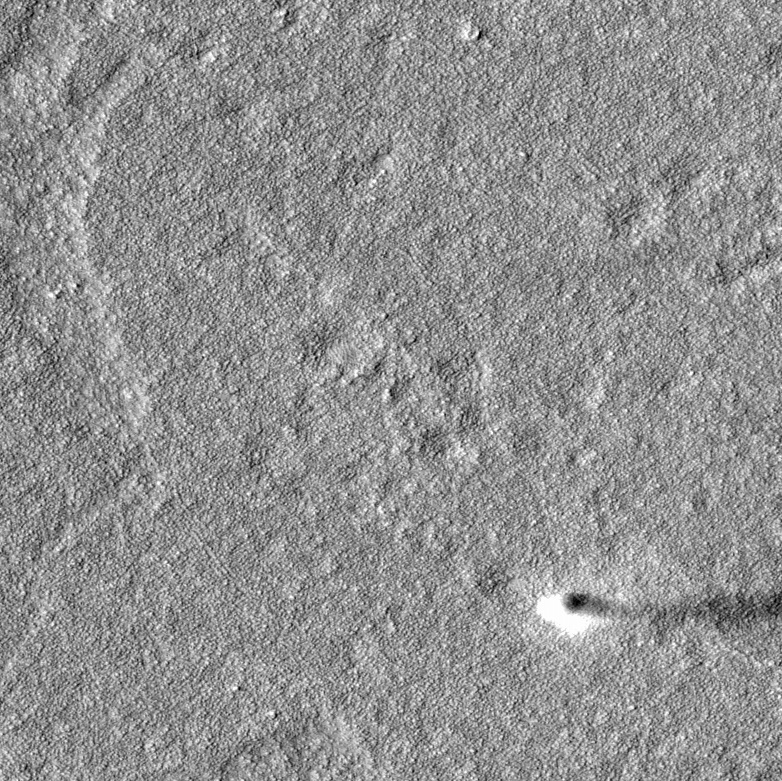dust_devil: (533, 582, 782, 641)
